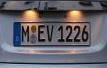1: (57, 25, 65, 42)
2: (65, 24, 73, 42), (73, 24, 81, 42)
6: (81, 24, 89, 42)
E: (37, 24, 46, 42)
M: (21, 25, 30, 43)
V: (46, 24, 54, 42)
